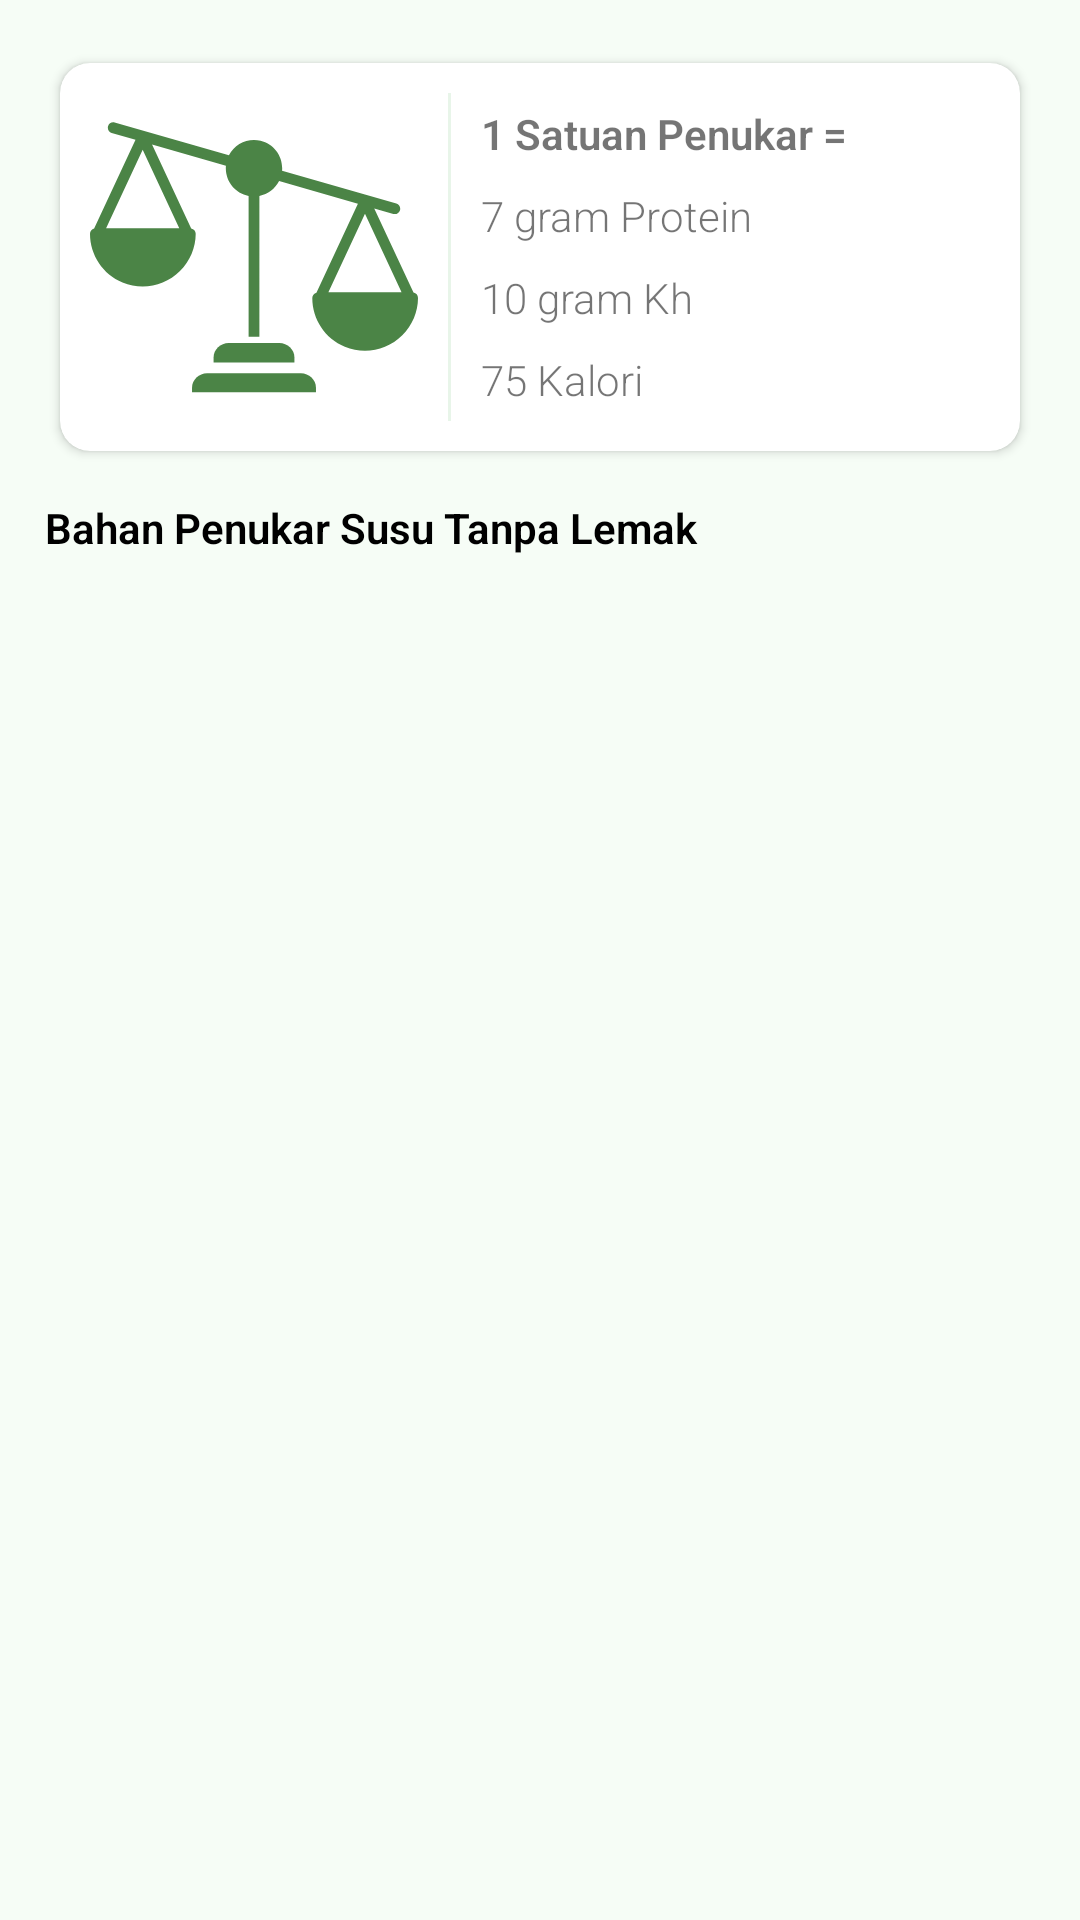

Locate icon controls on the screen. Image size 1080px x 1920px, boxes as [left=x1, top=y1, right=x2, bottom=y2].
balance: [left=90, top=122, right=418, bottom=393]
